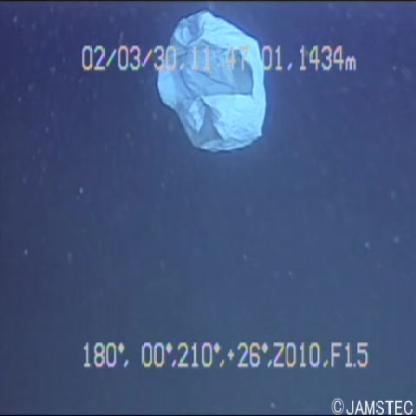Rác: (140, 8, 286, 164)
